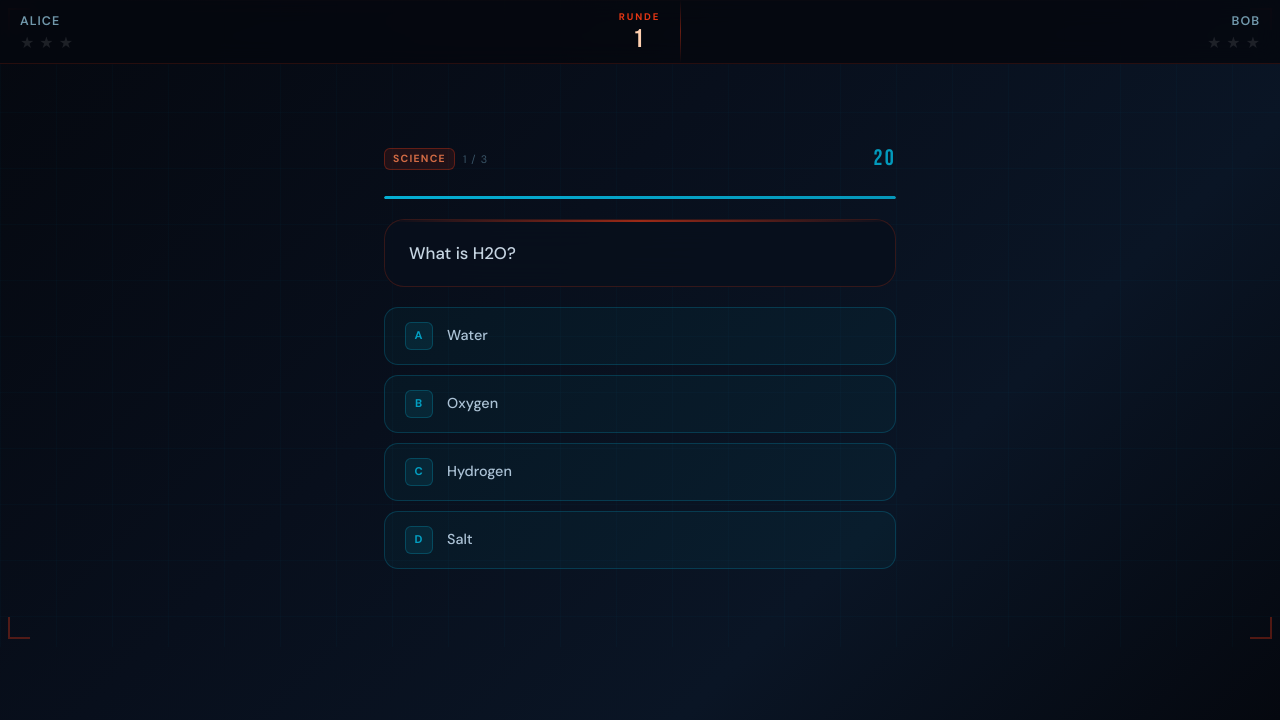
Test: BattleArena Component Tests › shows wrong answer feedback and ignores duplicate submissions
Click the button "B Oxygen". click: (473, 403)
box: [384,375,896,433]
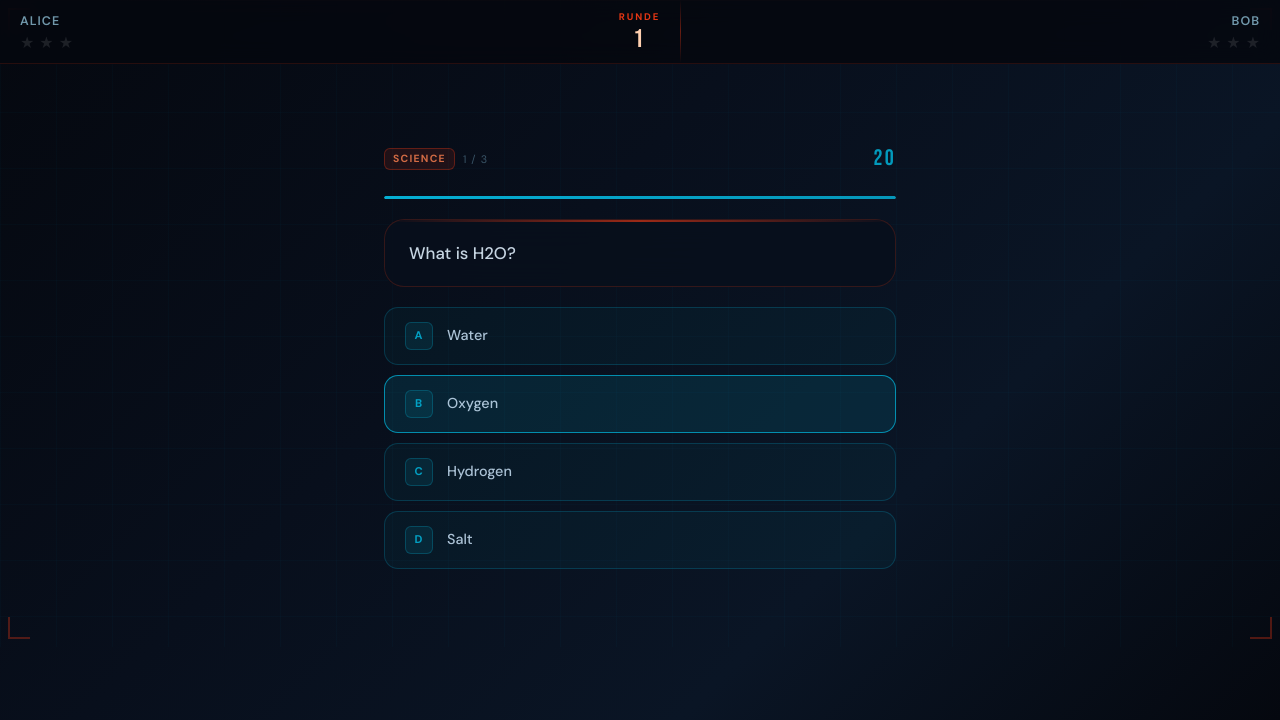
Click the button "D Salt". click: (419, 540)
box: [384,511,896,569]
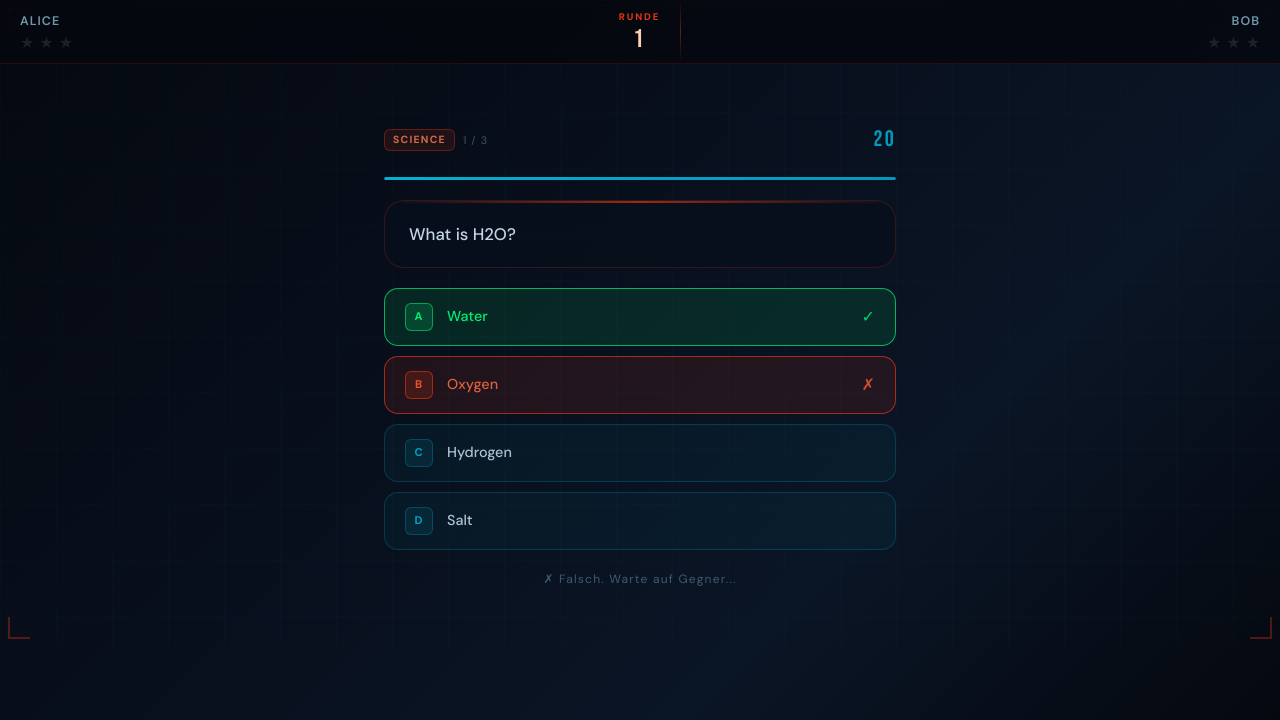
Expected: the text "✗ Falsch. Warte auf Gegner..." is shown, [543,571,737,587]
Expected: the text "✗" is shown, [862,373,875,397]
